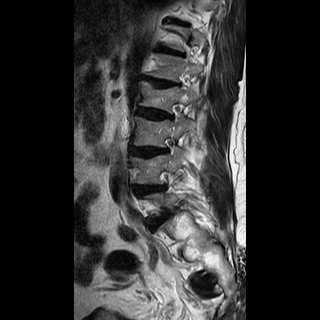RFS0: (159, 130, 180, 160)
